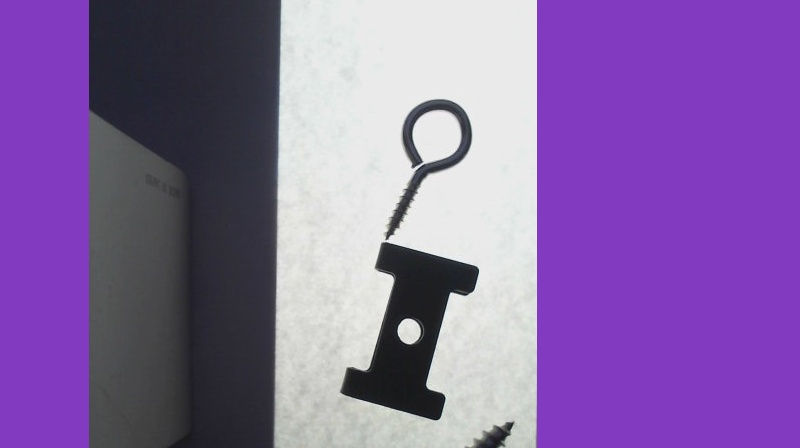O001: (380, 97, 473, 241)
O002: (336, 245, 479, 420)
S001: (372, 421, 513, 447)
